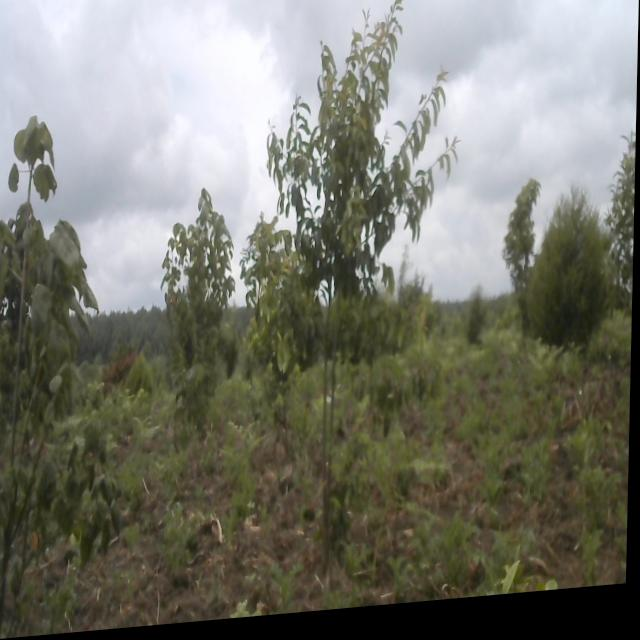Hass Avocado: (238, 215, 303, 457)
Lemon Myrtle: (257, 0, 456, 556)
cedrus: (528, 188, 614, 367)
other: (0, 112, 103, 640), (158, 187, 233, 432), (500, 182, 547, 323)
